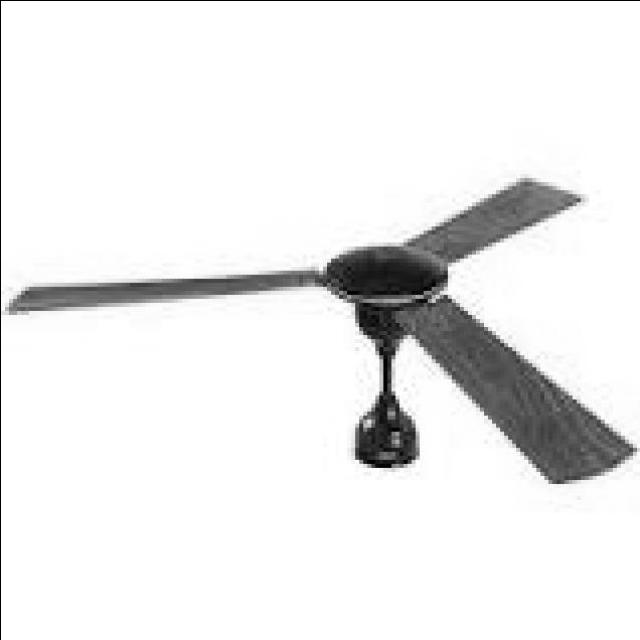fan: (1, 177, 636, 486)
